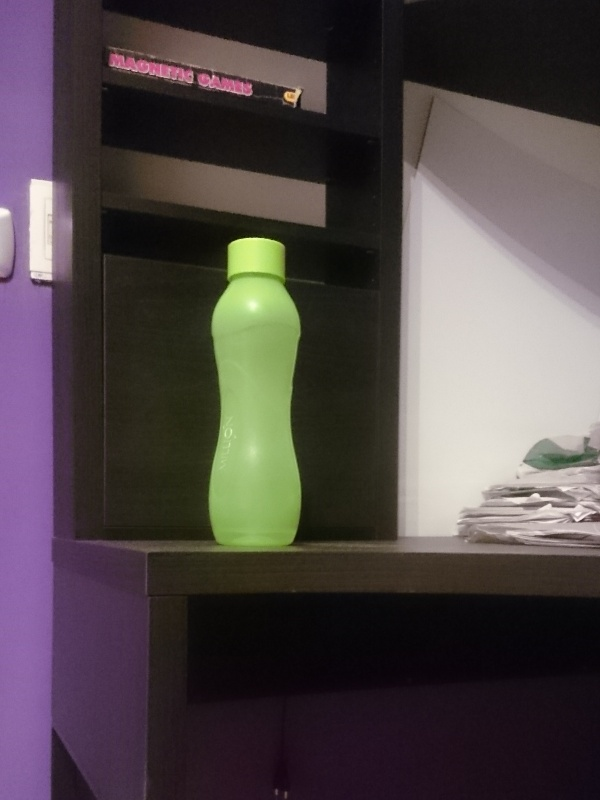my bottle: (207, 228, 301, 550)
